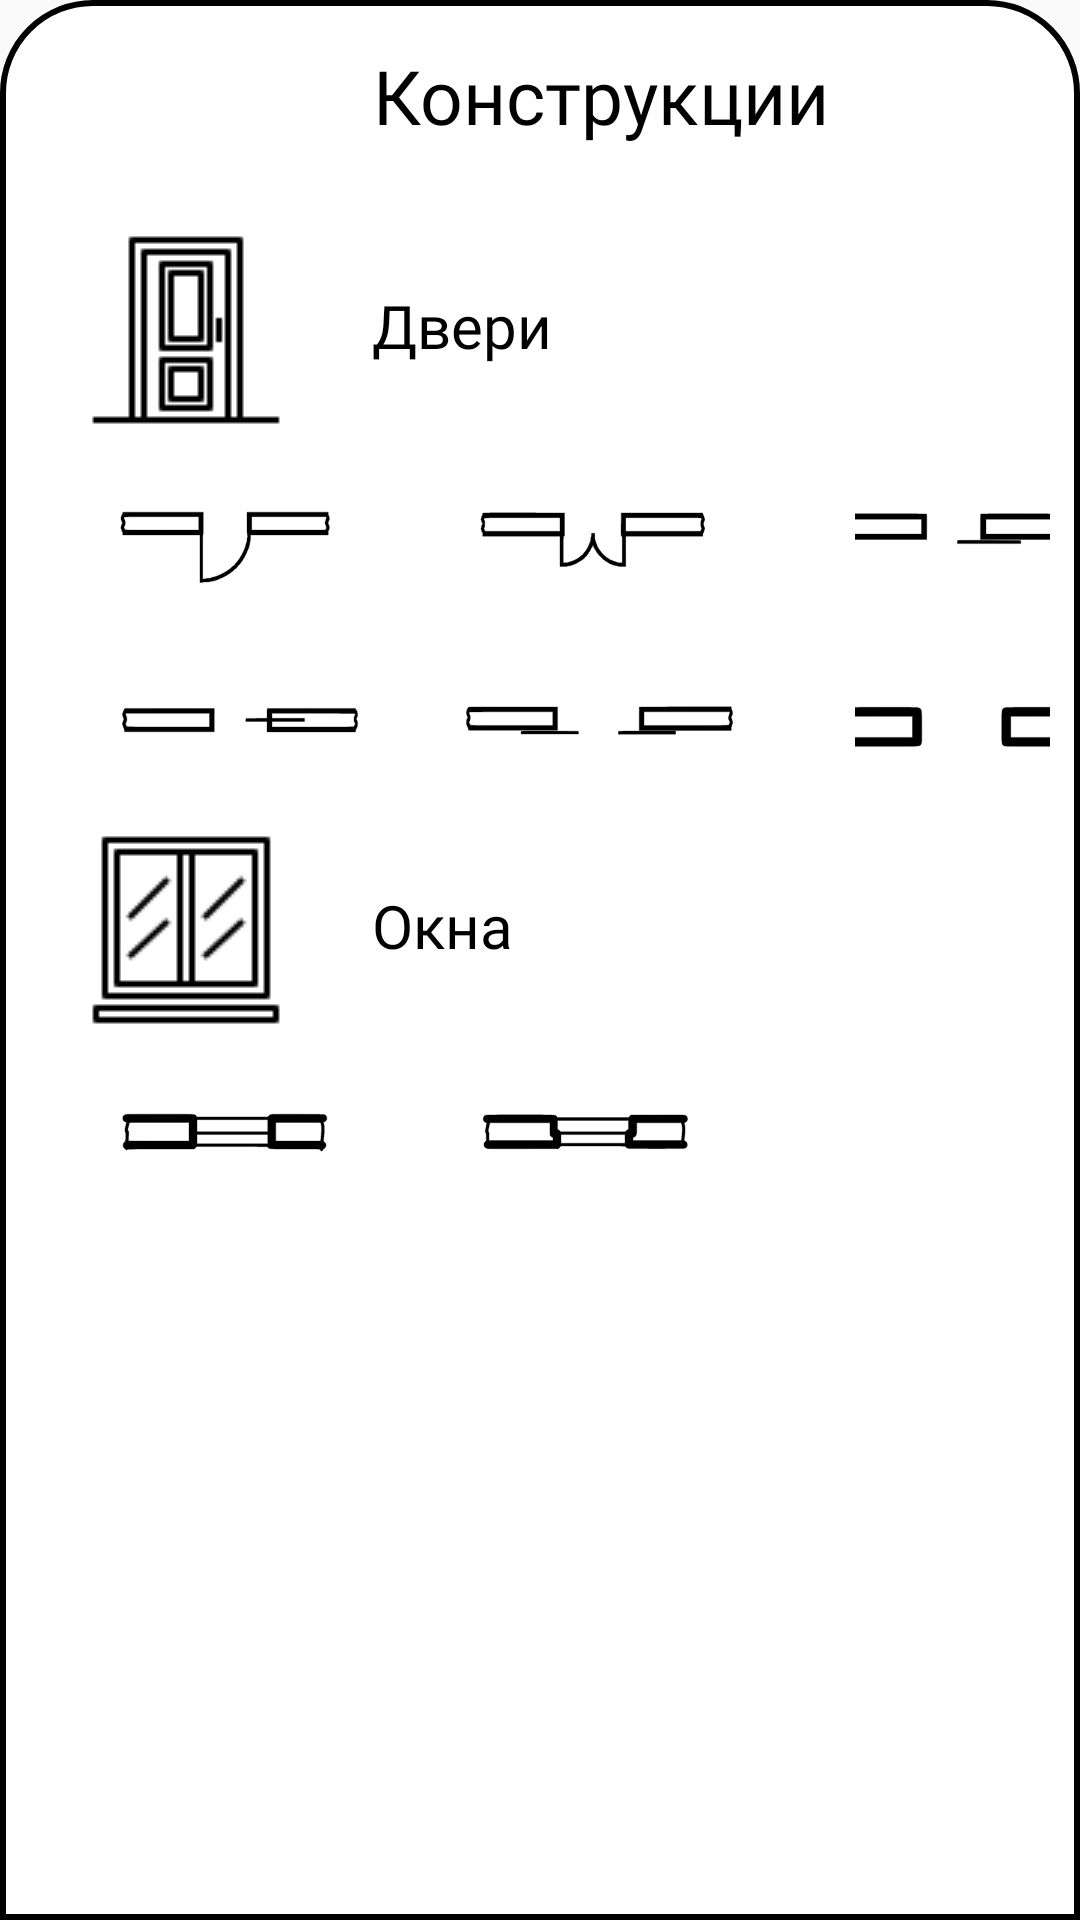

Named icons in this screenshot (1080w x 1920h) and their bounding boxes, (x1, y1, x2, y2):
dver: (92, 236, 280, 424)
